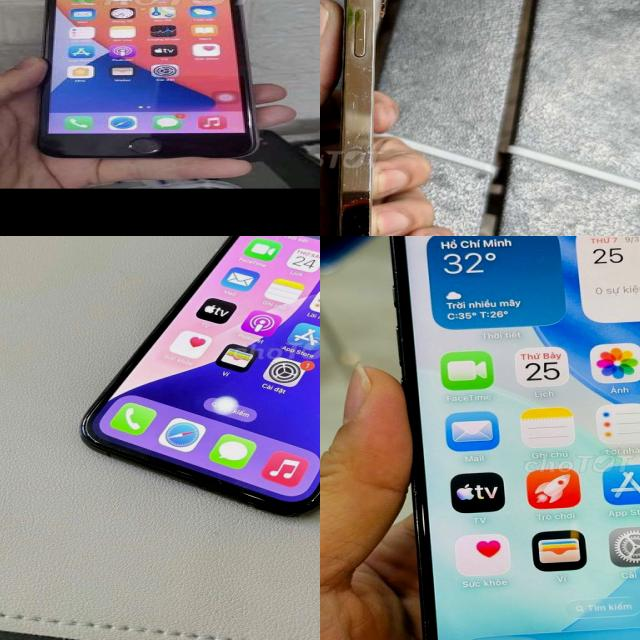scratch: (340, 0, 378, 236)
